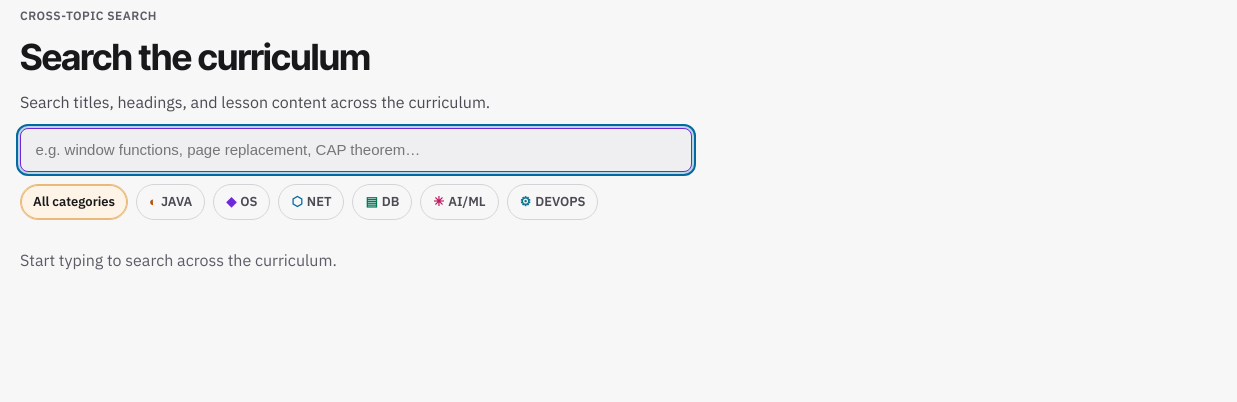
Scenario: SearchPage › ignores a superseded response that finishes after the current query
The image size is (1237, 402).
Type "old" into the search field.
click(356, 150); type("old")  # box [20,128,692,172]
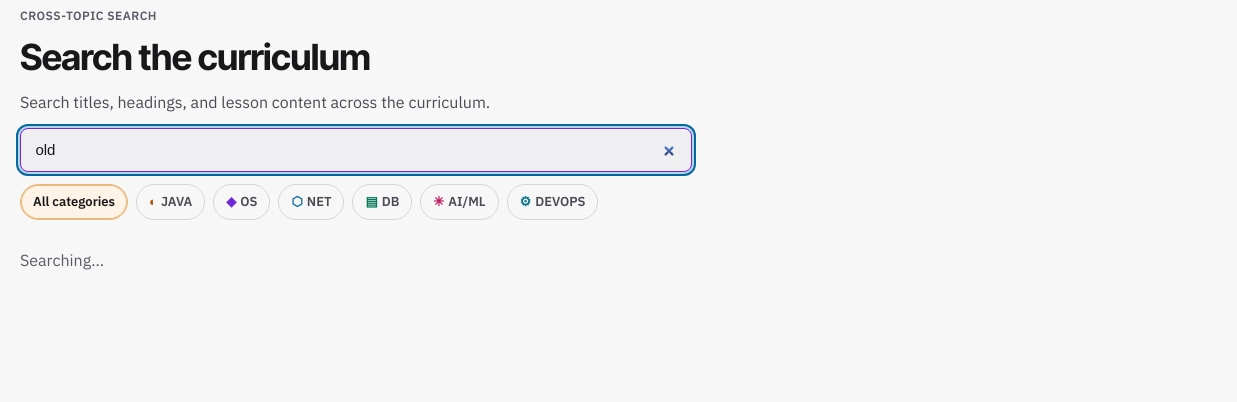
Replace the text in the search field with "new" at (356, 150), box [20,128,692,172]
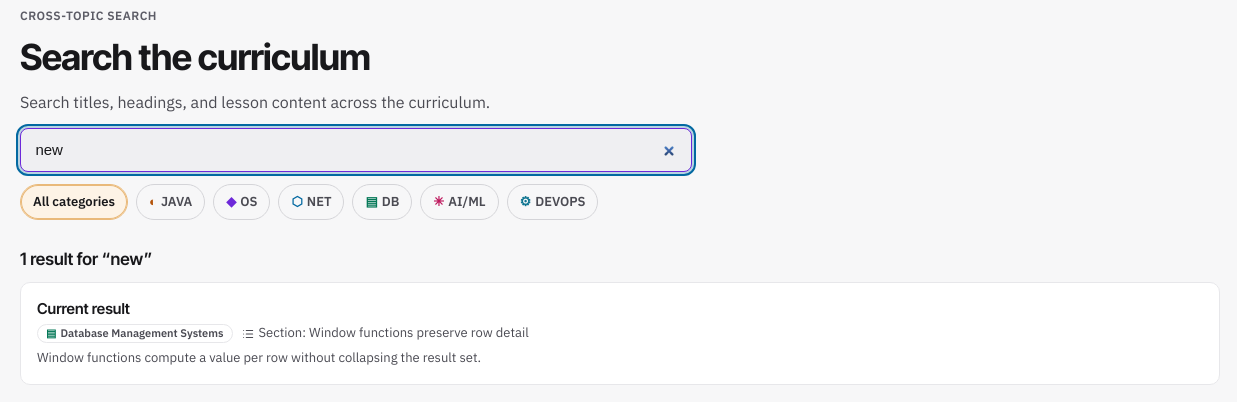
Check: the link "Current result" is shown, box [37,299,130,318]
